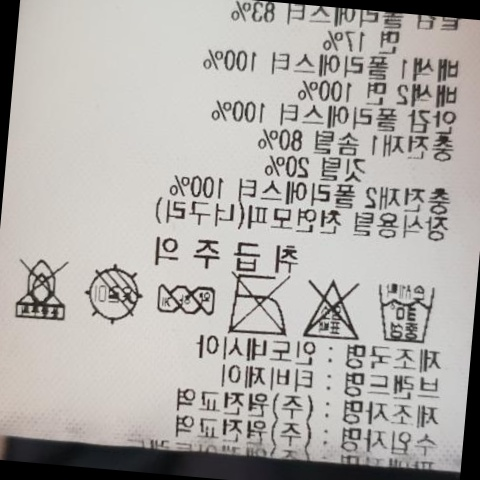DN_iron: (225, 271, 294, 341)
hand_wash: (369, 277, 436, 348)
line_dry_in_shade: (79, 261, 142, 326)
non_chlorine_bleach: (296, 268, 365, 344)
wring: (149, 276, 217, 320)
